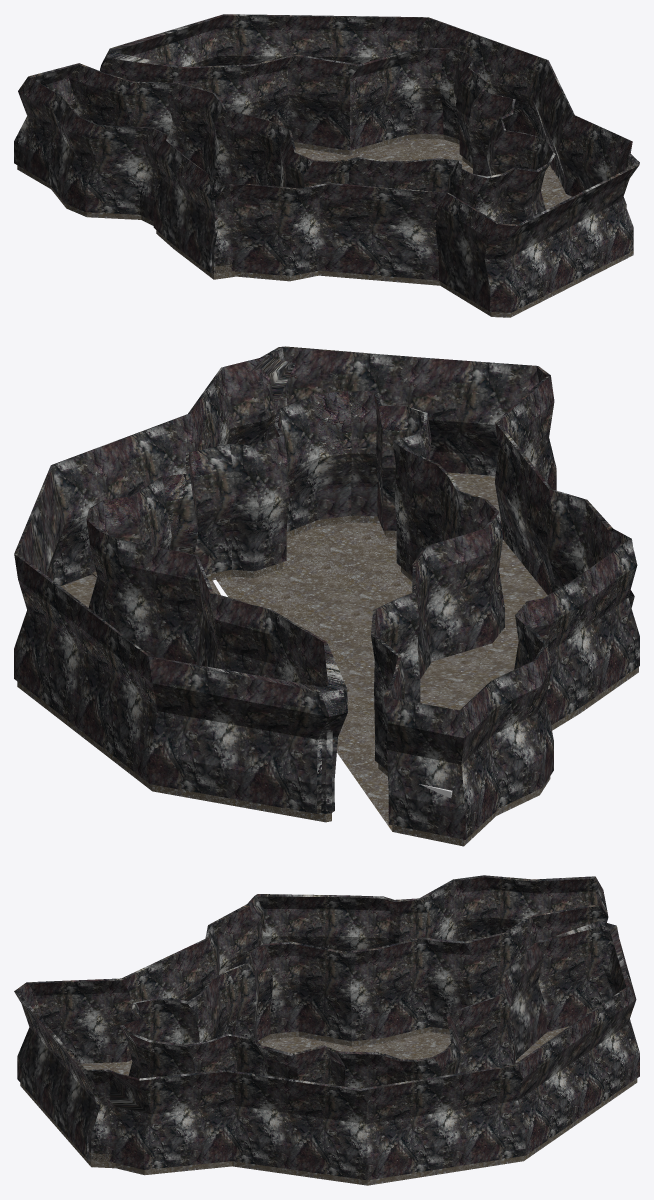
File: test 002alv01.fbx
The picture shows the model from 3 angles, top to bottom: view 1: azimuth 30°, elevation 25°; view 2: azimuth 150°, elevation 25°; view 3: azimuth 270°, elevation 25°; orthographic projection. The views are drawn at different scales.
Visible parts, largest first — view 1: Plane.001, Plane; view 2: Plane.001, Plane; view 3: Plane.001, Plane.
Boxes of the visible parts, x1,y1,x2,y2 form: Plane.001: [14, 14, 639, 312]; Plane: [17, 134, 633, 317]; Plane.001: [14, 346, 639, 839]; Plane: [17, 472, 638, 846]; Plane.001: [14, 875, 639, 1180]; Plane: [20, 1026, 637, 1185].
Size of the model in its own units: 8855 by 1904 by 10732.
Materials: 3 (3 with a texture image).
